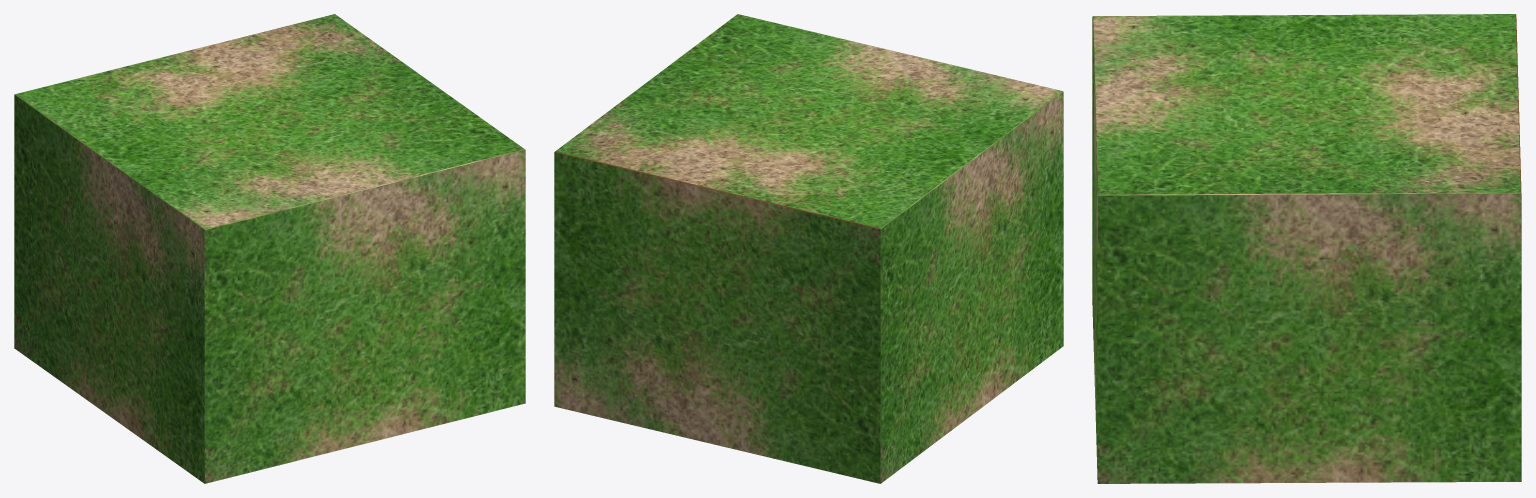
Rendered from Main Cube1.glb.
3 views of the same model, side by side, from view 1: azimuth 30°, elevation 25°; view 2: azimuth 150°, elevation 25°; view 3: azimuth 270°, elevation 25° (orthographic). The views are drawn at different scales.
Parts seen in each view (by area): view 1: Main Cube1; view 2: Main Cube1; view 3: Main Cube1.
Boxes of the visible parts, bbox=[...] form: Main Cube1: bbox=[14, 14, 525, 483]; Main Cube1: bbox=[554, 14, 1063, 483]; Main Cube1: bbox=[1092, 14, 1521, 483].
Bounding box in the file's own units: 1.01 × 0.7522 × 1.01.
3 materials, 2 textured.
